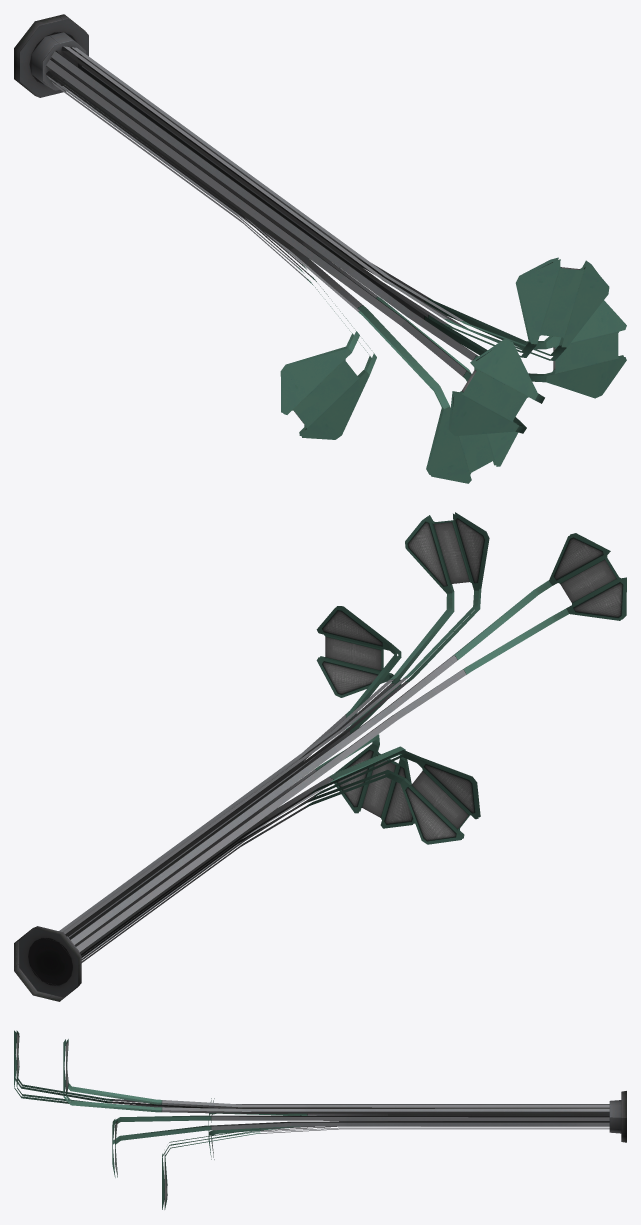
File: nt_2020_streetlight_01_LOD2.obj
3 renders of one model, top to bottom at view 1: azimuth 30°, elevation 25°; view 2: azimuth 150°, elevation 25°; view 3: azimuth 270°, elevation 25°, orthographic. The views are drawn at different scales.
Visible parts, largest first — view 1: mtl_nt_2020_streetlights_01; view 2: mtl_nt_2020_streetlights_01; view 3: mtl_nt_2020_streetlights_01.
Part boxes in pixels (x1,y1,x2,y2): mtl_nt_2020_streetlights_01: [14, 14, 626, 483]; mtl_nt_2020_streetlights_01: [14, 512, 626, 1001]; mtl_nt_2020_streetlights_01: [14, 1030, 626, 1209].
Size of the model in its own units: 230 by 239 by 797.
